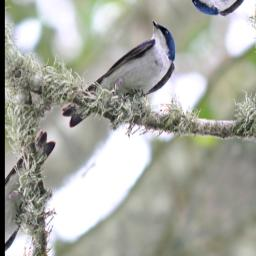Swallow: (56, 8, 192, 161)
